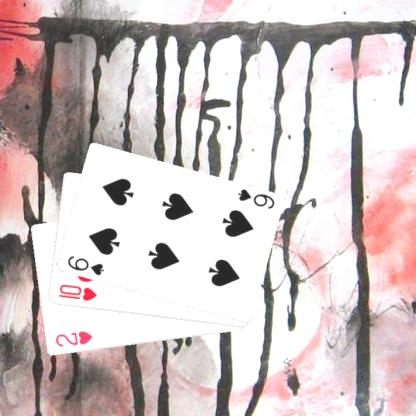10H: (56, 282, 98, 302)
2H: (52, 328, 93, 349)
6S: (64, 253, 105, 277), (235, 186, 276, 210)
